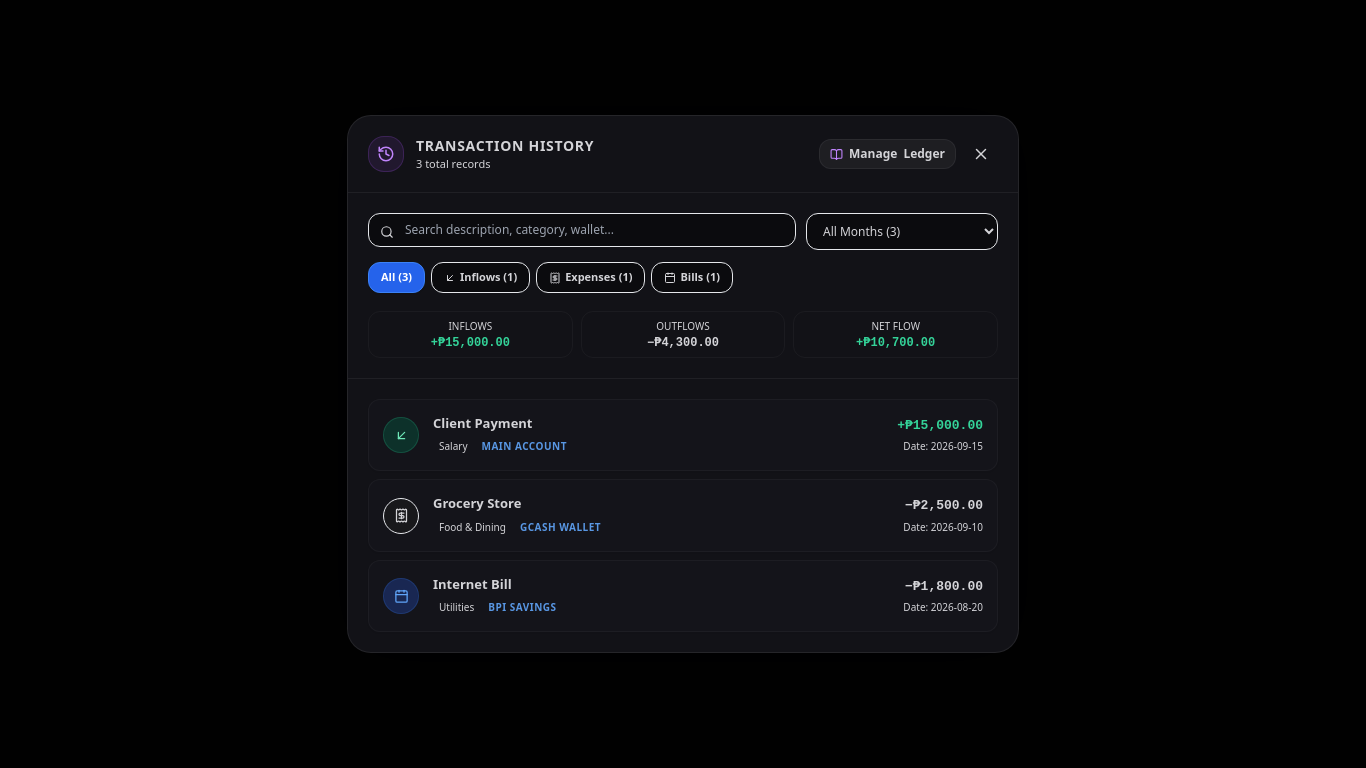
it: TransactionHistoryModal › filters transactions by type
Note: Click "Inflows"
Click the button "Inflows (1)": {"x": 480, "y": 278} [431,262,530,293]
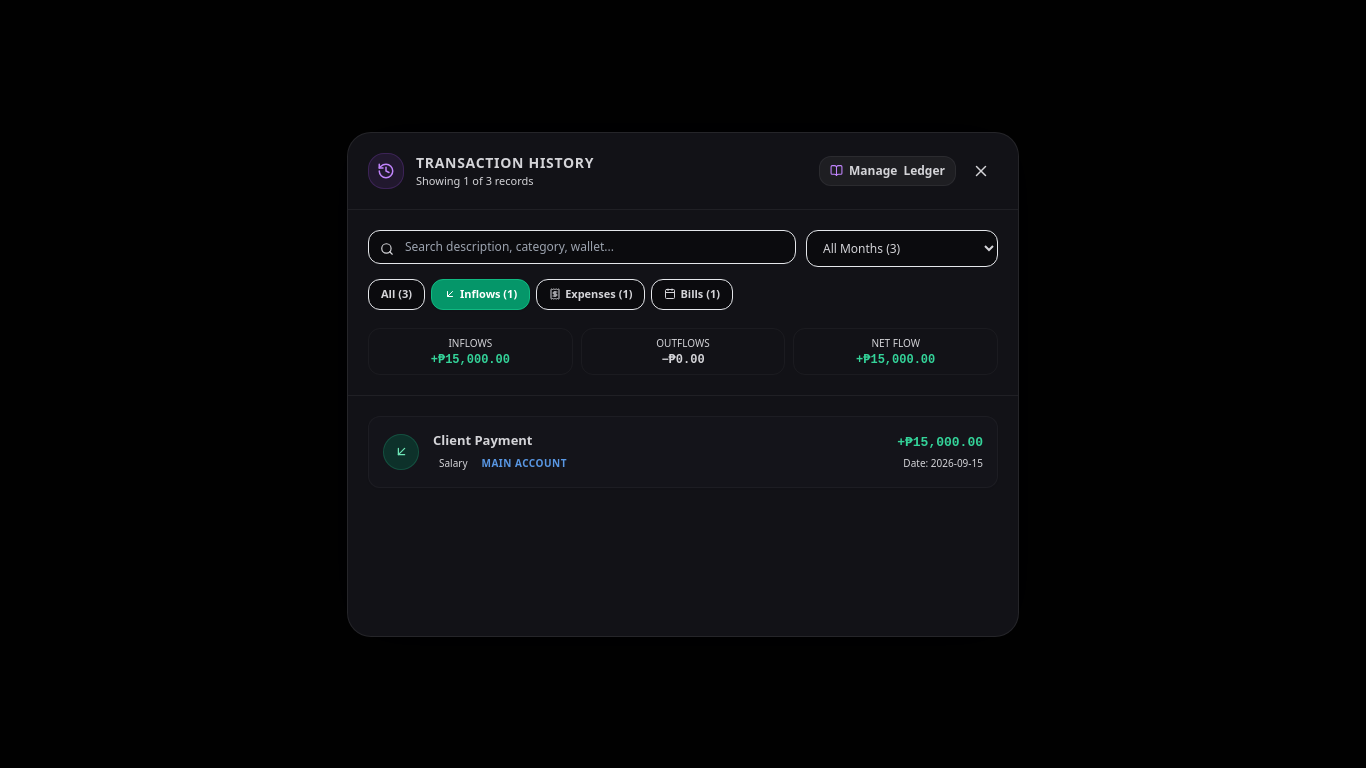
Expected: the text "Client Payment" is shown, [433,430,532,448]
Now the text "Grocery Store" is gone
Now the text "Internet Bill" is gone
Note: Click "Expenses"
Click the button "Expenses (1)": {"x": 591, "y": 294} [536,279,645,310]
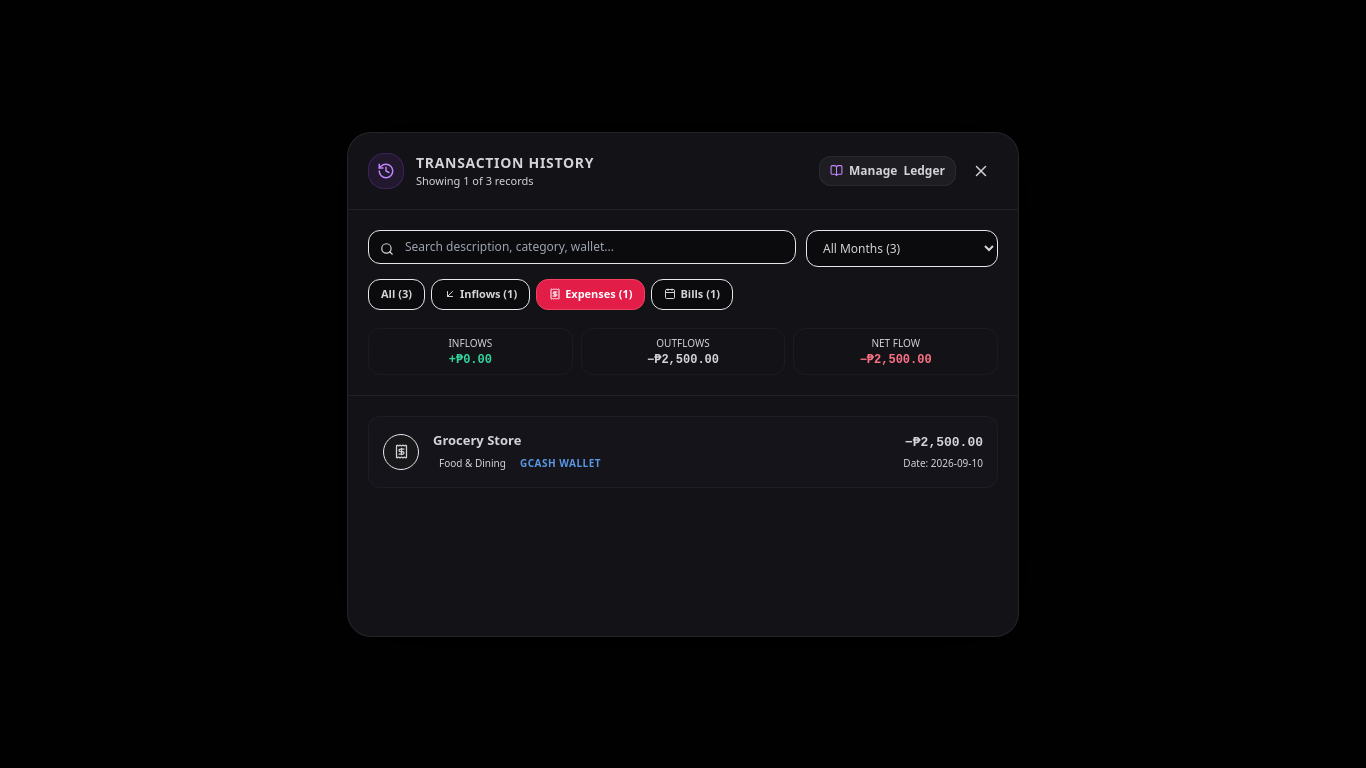
Expected: the text "Internet Bill" is not shown
Now the text "Grocery Store" is shown, box [433,430,521,448]
Now the text "Client Payment" is gone
Note: Click "Bills"
Click the button "Bills (1)": {"x": 692, "y": 294} [651,279,733,310]
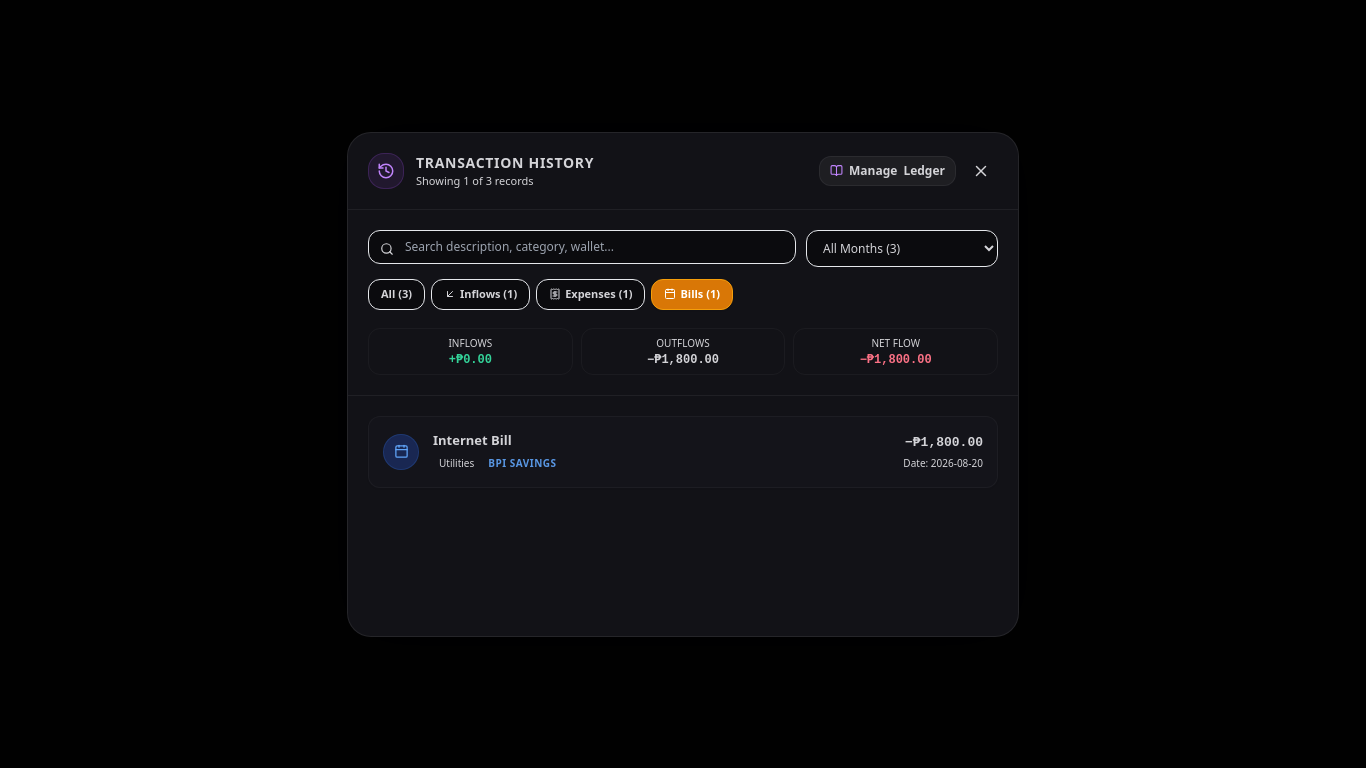
Expected: the text "Client Payment" is not shown
Now the text "Internet Bill" is shown, box [433,430,512,448]
Now the text "Grocery Store" is gone
